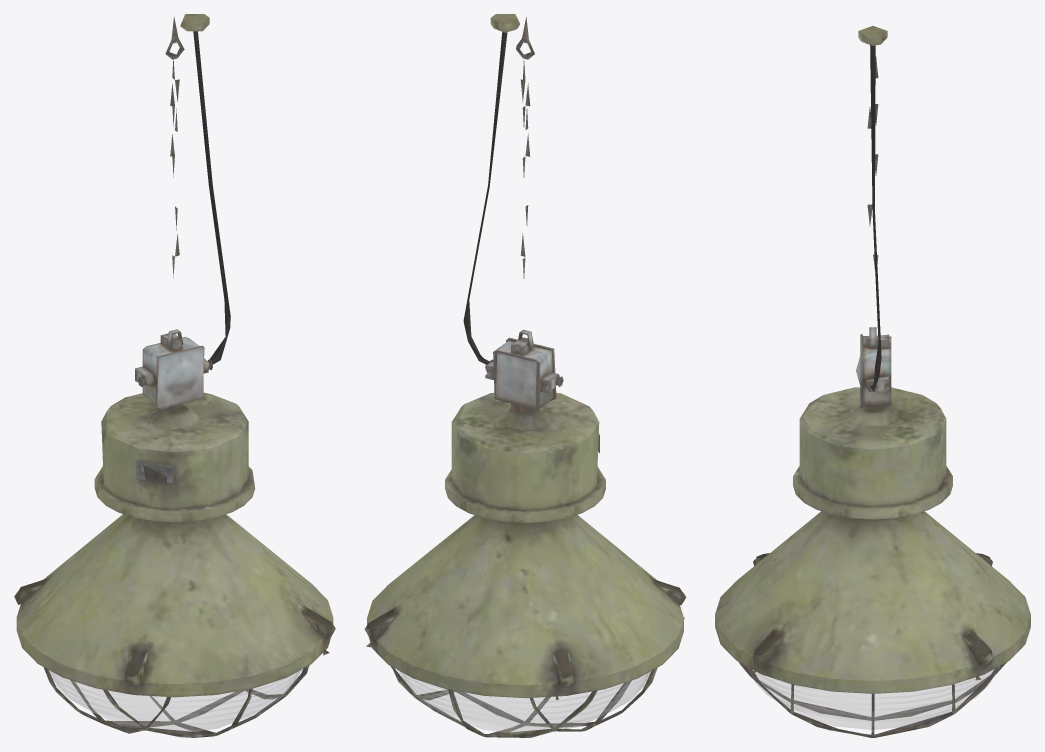
File: hanging_industrial_lamp.glb
The picture shows the model from 3 angles, left to right: view 1: azimuth 30°, elevation 25°; view 2: azimuth 150°, elevation 25°; view 3: azimuth 270°, elevation 25°; orthographic projection.
Visible parts, largest first — view 1: hanging_industrial_lamp; view 2: hanging_industrial_lamp; view 3: hanging_industrial_lamp.
Part boxes in pixels (x1,y1,x2,y2): hanging_industrial_lamp: (14,14,335,737); hanging_industrial_lamp: (364,14,686,737); hanging_industrial_lamp: (715,26,1030,737).
Size of the model in its own units: 0.5497 by 1.36 by 0.5497.
2 materials, 1 textured.
